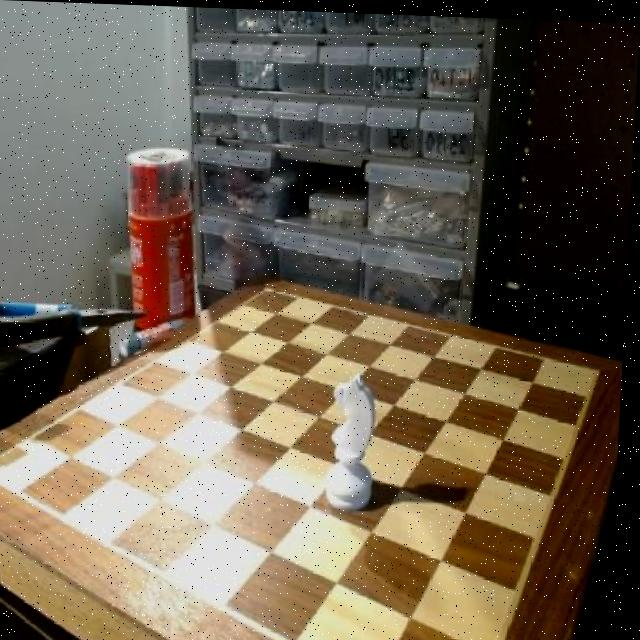white-king: (322, 368, 385, 511)
